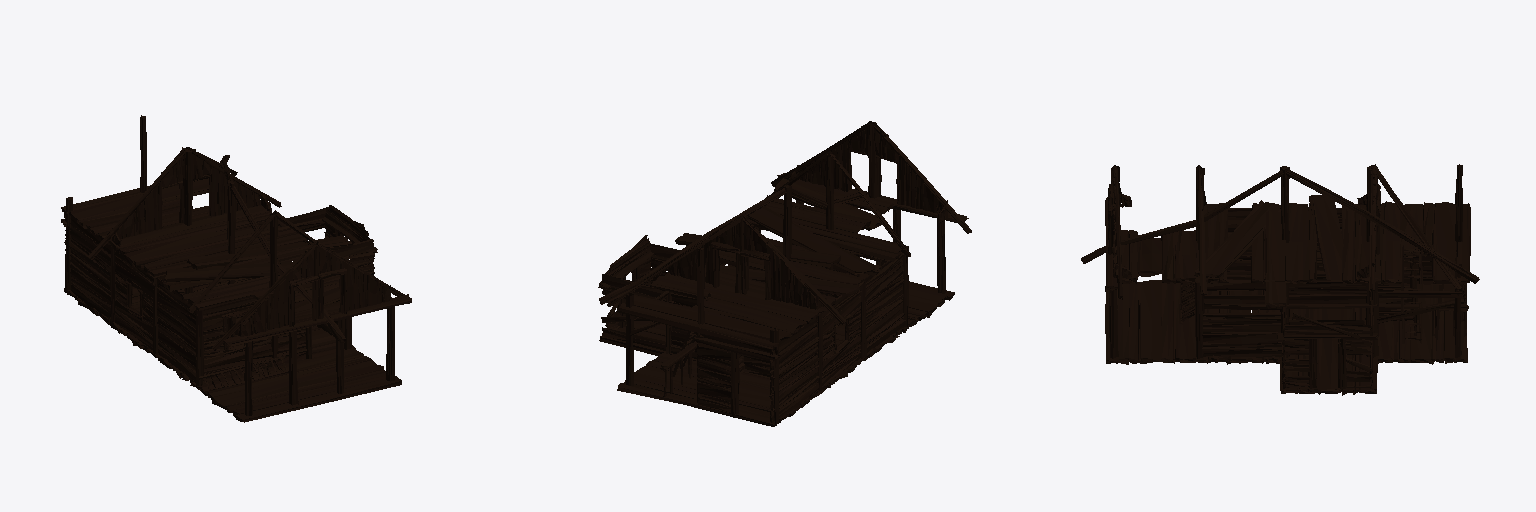
Rendered from -LOD0_p_hut_003.obj.
3 renders of one model, left to right at view 1: azimuth 30°, elevation 25°; view 2: azimuth 150°, elevation 25°; view 3: azimuth 270°, elevation 25°, orthographic.
Parts seen in each view (by area): view 1: Cylinder.000; view 2: Cylinder.000; view 3: Cylinder.000.
Boxes of the visible parts, box(x1,y1,x2,y2) form: Cylinder.000: box(61, 115, 411, 422); Cylinder.000: box(598, 121, 971, 426); Cylinder.000: box(1081, 164, 1479, 395).
Bounding box in the file's own units: 13.42 × 8.39 × 18.77.